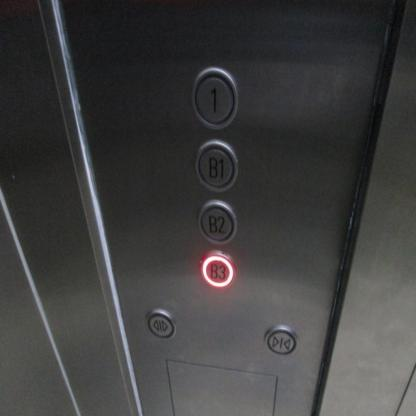1: (191, 66, 238, 131)
B1: (194, 139, 238, 194)
B2: (197, 198, 237, 245)
B3: (199, 250, 235, 288)
close: (263, 324, 298, 356)
open: (146, 308, 177, 340)
